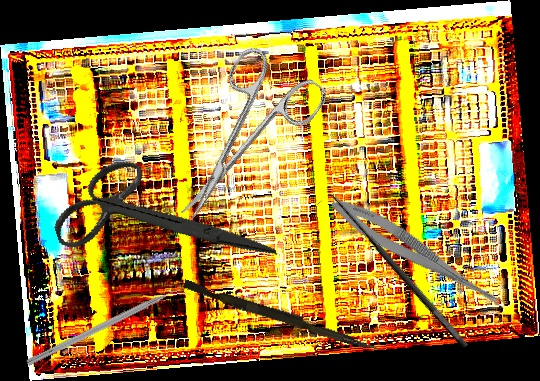Chopper: (25, 281, 193, 376)
Hook Surgical: (316, 187, 471, 360)
Iris Scissors: (40, 122, 278, 321), (145, 37, 331, 243)
Micro Scissor: (325, 190, 515, 316)
Pusher: (181, 279, 381, 353)
